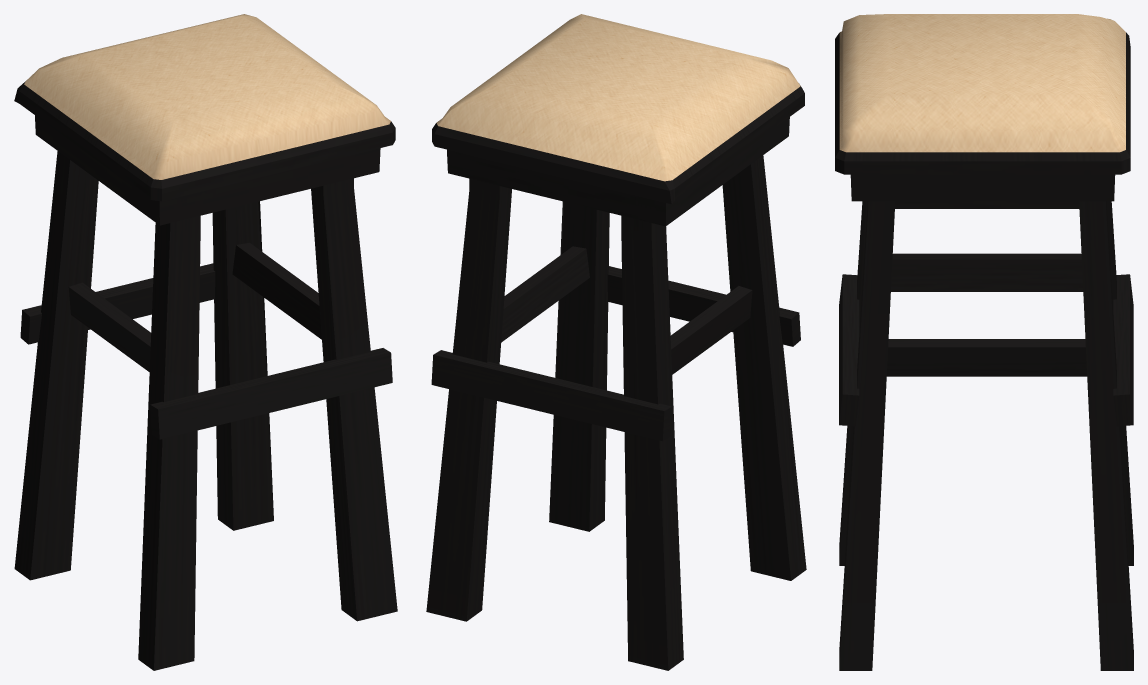
The model's file is Barstool_F.FBX.
3 views of the same model, side by side, from view 1: azimuth 30°, elevation 25°; view 2: azimuth 150°, elevation 25°; view 3: azimuth 270°, elevation 25° (orthographic). The views are drawn at different scales.
Visible parts, largest first — view 1: Bar_Stool; view 2: Bar_Stool; view 3: Bar_Stool.
Boxes of the visible parts, x1=… form: Bar_Stool: x1=14, y1=14, x2=397, y2=670; Bar_Stool: x1=426, y1=14, x2=806, y2=670; Bar_Stool: x1=835, y1=14, x2=1133, y2=670.
Size of the model in its own units: 85.32 by 174 by 84.9.
